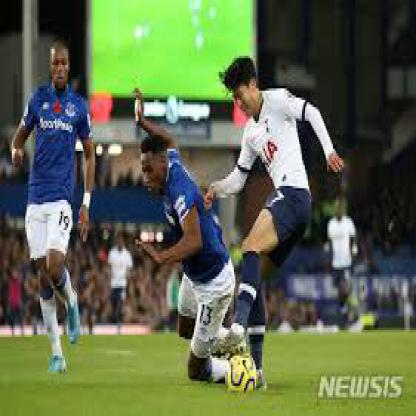Fall_Down: (131, 85, 249, 393)
